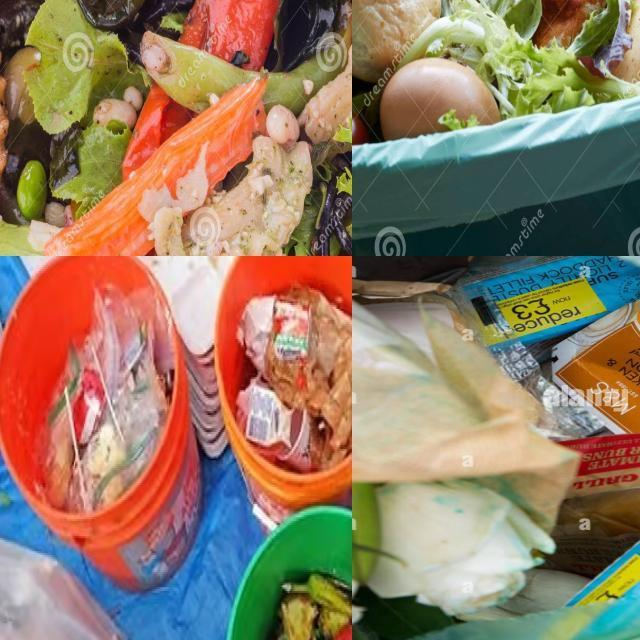Garbage: (352, 256, 640, 640), (352, 0, 640, 141), (41, 285, 174, 511)
Plastic_Bag: (42, 287, 174, 511)
